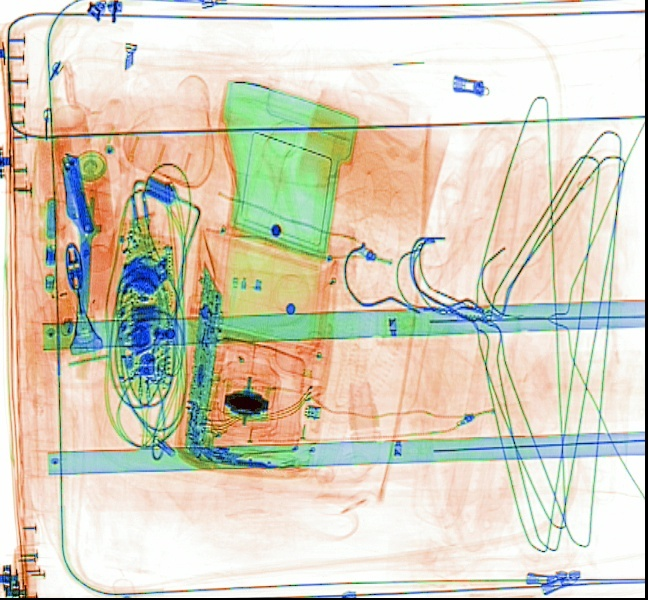pressure: (67, 145, 115, 272)
scissors: (41, 122, 123, 315)
